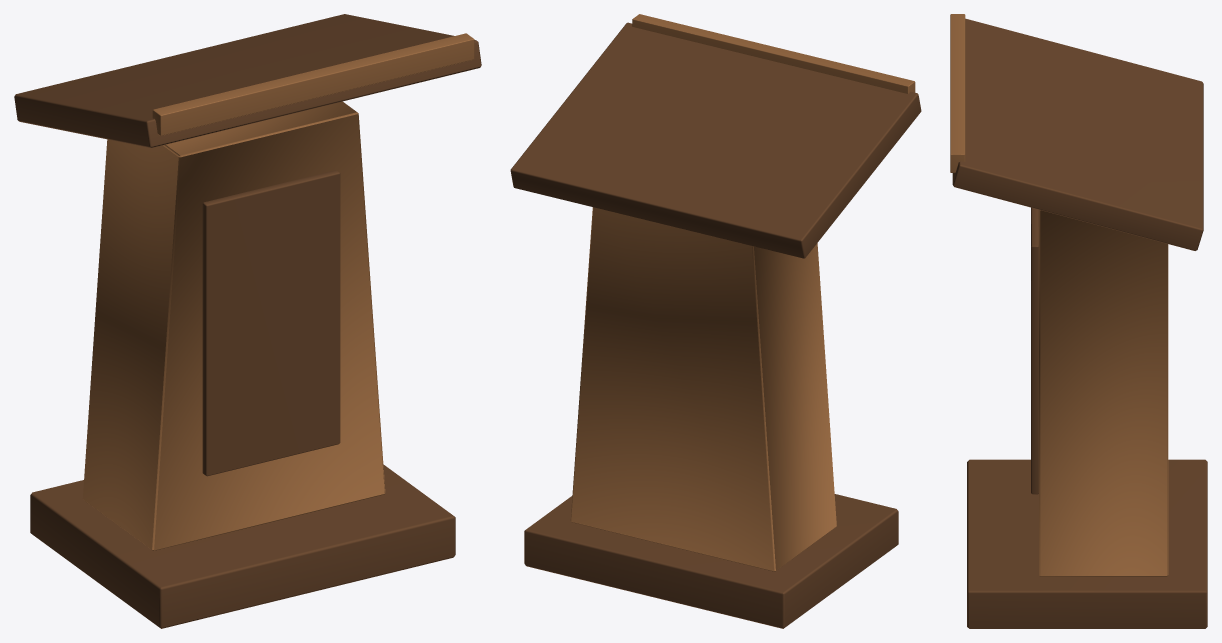
Rendered from S048_lectern_rebuilt.glb.
3 views of the same model, side by side, from view 1: azimuth 30°, elevation 25°; view 2: azimuth 150°, elevation 25°; view 3: azimuth 270°, elevation 25° (orthographic). The views are drawn at different scales.
Visible parts, largest first — view 1: Oak_end_and_edge, Oiled_warm_oak; view 2: Oiled_warm_oak, Oak_end_and_edge; view 3: Oak_end_and_edge, Oiled_warm_oak.
Boxes of the visible parts, x1,y1,x2,y2 form: Oak_end_and_edge: [14, 14, 481, 628]; Oiled_warm_oak: [82, 33, 474, 550]; Oiled_warm_oak: [570, 14, 915, 571]; Oak_end_and_edge: [510, 22, 921, 628]; Oak_end_and_edge: [952, 18, 1207, 628]; Oiled_warm_oak: [950, 14, 1168, 576].
Bounding box in the file's own units: 0.86 × 1.29 × 0.63.
